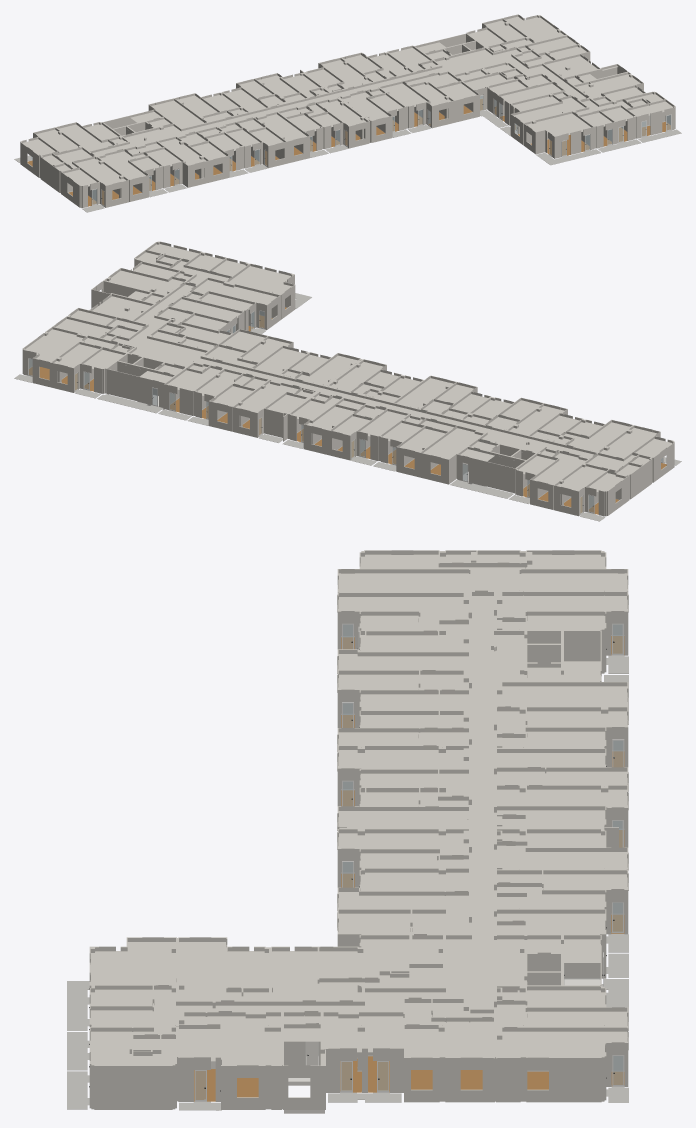
The picture shows the model from 3 angles, top to bottom: view 1: azimuth 30°, elevation 25°; view 2: azimuth 150°, elevation 25°; view 3: azimuth 270°, elevation 25°; orthographic projection. The views are drawn at different scales.
Parts seen in each view (by area): view 1: in_L09_walls__int_wall, in_L09_ceiling__int_wall, in_L09_u156_walls__int_wall, in_L09_u167_walls__int_wall, in_L09_u156_ceiling__int_wall, in_L09_u167_ceiling__int_wall, in_L09_u159_walls__int_wall, in_L09_u159_ceiling__int_wall, in_L09_u153_ceiling__int_wall, in_L09_u162_walls__int_wall, in_L09_u161_walls__int_wall, in_L09_u148_ceiling__int_wall (+28 smaller); view 2: in_L09_walls__int_wall, in_L09_ceiling__int_wall, in_L09_u167_walls__int_wall, in_L09_u167_ceiling__int_wall, in_L09_u156_ceiling__int_wall, in_L09_u153_walls__int_wall, in_L09_u159_ceiling__int_wall, in_L09_u153_ceiling__int_wall, in_L09_u149_walls__int_wall, in_L09_u148_ceiling__int_wall, in_L09_u148_walls__int_wall, in_L09_u154_ceiling__int_wall (+30 smaller); view 3: in_L09_walls__int_wall, in_L09_ceiling__int_wall, in_L09_u156_ceiling__int_wall, in_L09_u167_ceiling__int_wall, in_L09_u159_ceiling__int_wall, in_L09_u153_walls__int_wall, in_L09_u153_ceiling__int_wall, in_L09_u158_ceiling__int_wall, in_L09_u154_ceiling__int_wall, in_L09_u148_ceiling__int_wall, in_L09_u156_walls__int_wall, in_L09_u154_walls__int_wall (+32 smaller).
Part boxes in pixels (bbox=[...]): in_L09_walls__int_wall: bbox=[55, 33, 675, 207]; in_L09_ceiling__int_wall: bbox=[92, 42, 617, 155]; in_L09_u156_walls__int_wall: bbox=[523, 91, 675, 158]; in_L09_u167_walls__int_wall: bbox=[20, 127, 128, 207]; in_L09_u156_ceiling__int_wall: bbox=[526, 94, 672, 135]; in_L09_u167_ceiling__int_wall: bbox=[23, 129, 126, 186]; in_L09_u159_walls__int_wall: bbox=[378, 69, 488, 128]; in_L09_u159_ceiling__int_wall: bbox=[382, 70, 485, 106]; in_L09_u153_ceiling__int_wall: bbox=[469, 16, 563, 50]; in_L09_u162_walls__int_wall: bbox=[219, 115, 309, 168]; in_L09_u161_walls__int_wall: bbox=[286, 97, 369, 150]; in_L09_u148_ceiling__int_wall: bbox=[151, 95, 244, 127]; in_L09_walls__int_wall: bbox=[52, 259, 634, 515]; in_L09_ceiling__int_wall: bbox=[113, 284, 593, 461]; in_L09_u167_walls__int_wall: bbox=[554, 425, 674, 516]; in_L09_u167_ceiling__int_wall: bbox=[557, 427, 671, 491]; in_L09_u156_ceiling__int_wall: bbox=[137, 244, 291, 294]; in_L09_u153_walls__int_wall: bbox=[22, 327, 133, 393]; in_L09_u159_ceiling__int_wall: bbox=[182, 331, 305, 374]; in_L09_u153_ceiling__int_wall: bbox=[25, 329, 128, 368]; in_L09_u149_walls__int_wall: bbox=[303, 403, 401, 460]; in_L09_u148_ceiling__int_wall: bbox=[383, 417, 480, 459]; in_L09_u148_walls__int_wall: bbox=[380, 414, 484, 484]; in_L09_u154_ceiling__int_wall: bbox=[56, 296, 150, 339]; in_L09_walls__int_wall: bbox=[91, 551, 628, 1109]; in_L09_ceiling__int_wall: bbox=[215, 596, 600, 1065]; in_L09_u156_ceiling__int_wall: bbox=[90, 942, 212, 1065]; in_L09_u167_ceiling__int_wall: bbox=[338, 554, 627, 591]; in_L09_u159_ceiling__int_wall: bbox=[338, 872, 468, 962]; in_L09_u153_walls__int_wall: bbox=[497, 986, 628, 1102]; in_L09_u153_ceiling__int_wall: bbox=[497, 990, 627, 1057]; in_L09_u158_ceiling__int_wall: bbox=[272, 939, 442, 1000]; in_L09_u154_ceiling__int_wall: bbox=[323, 1003, 493, 1057]; in_L09_u148_ceiling__int_wall: bbox=[497, 686, 627, 747]; in_L09_u156_walls__int_wall: bbox=[89, 937, 180, 1109]; in_L09_u154_walls__int_wall: bbox=[328, 999, 497, 1102].
Bounding box in the file's own units: 82.79 × 3.6 × 38.1.
